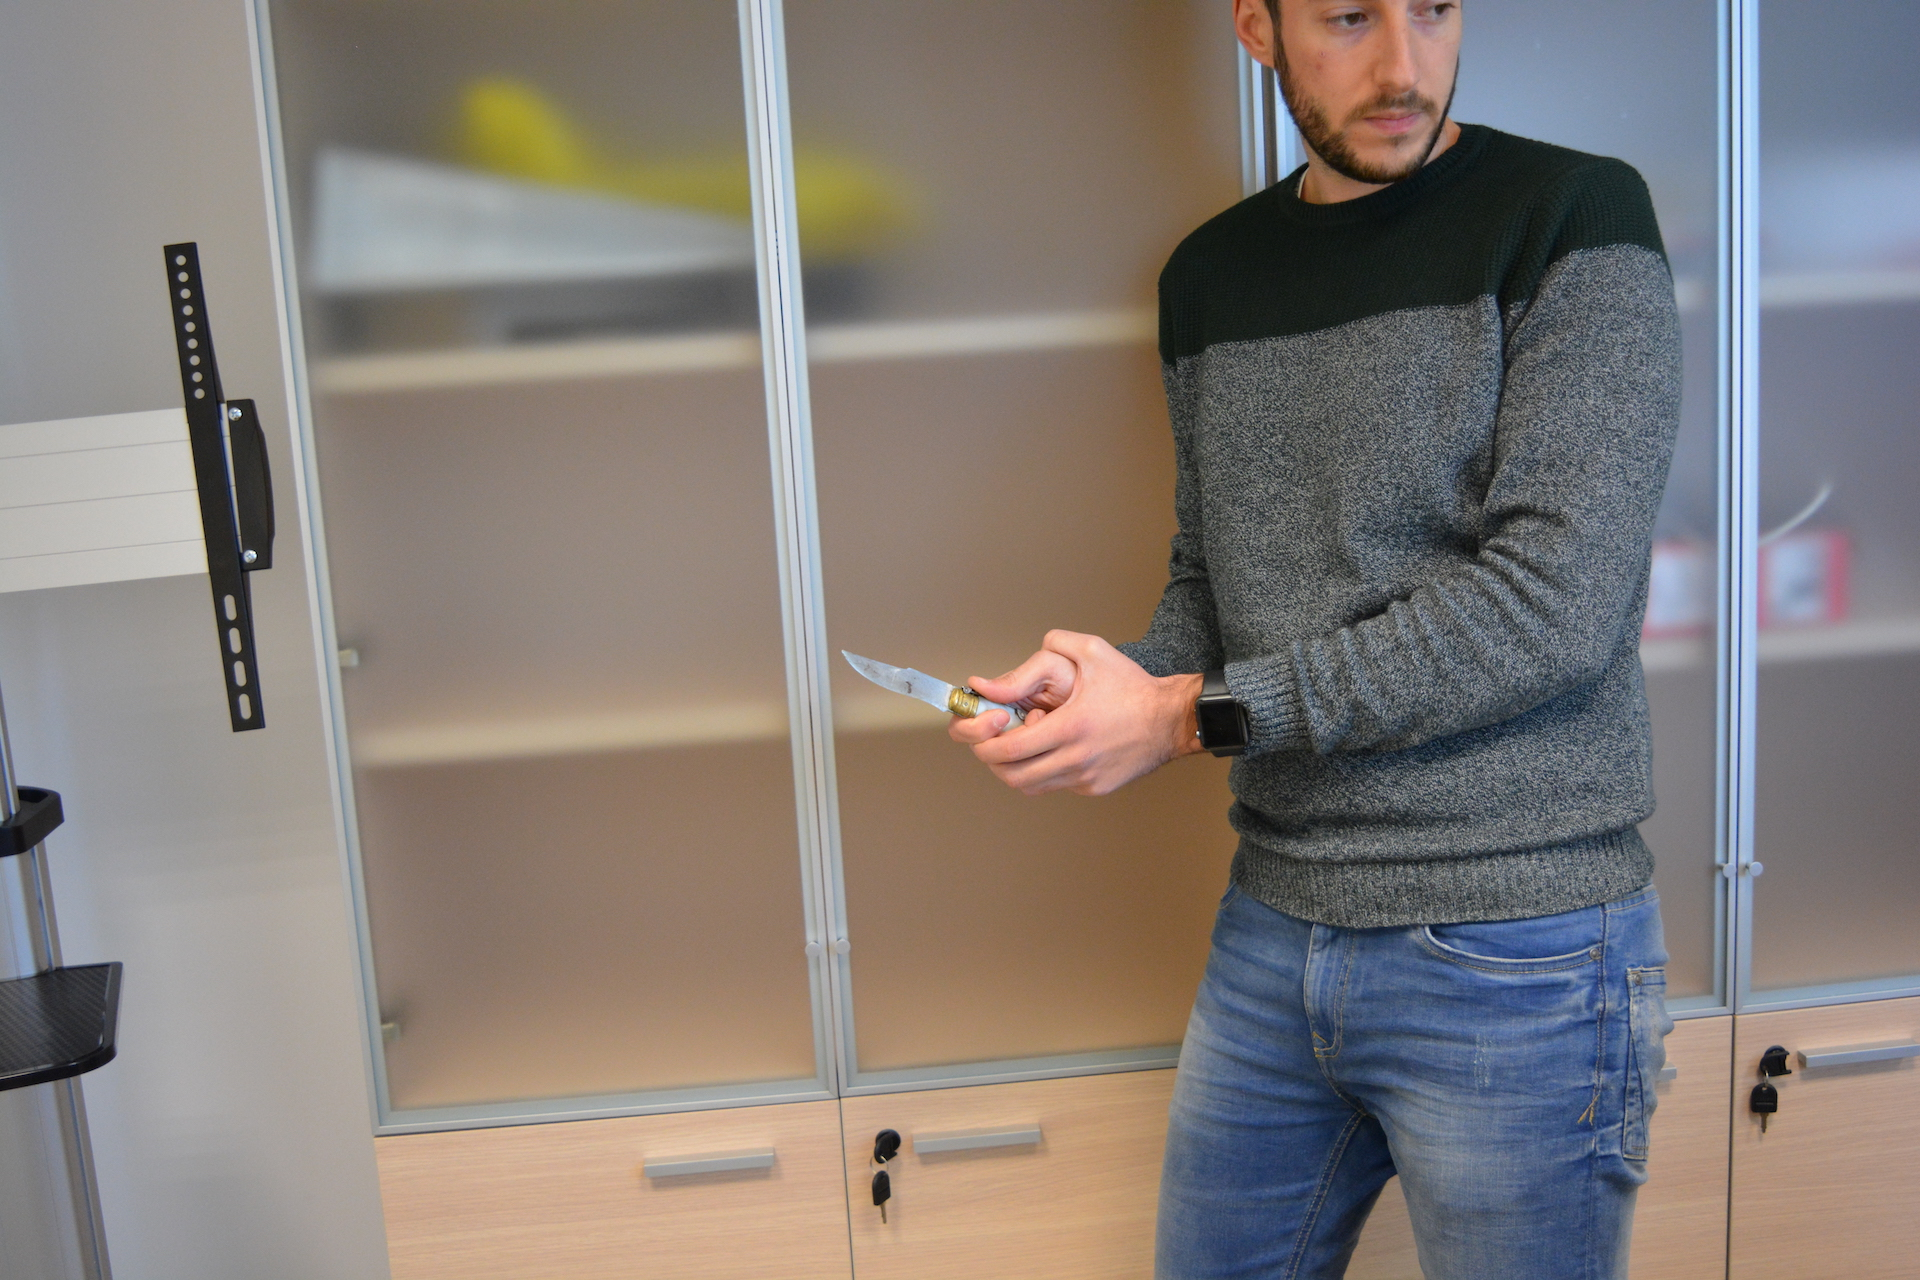knife: (833, 641, 1059, 741)
